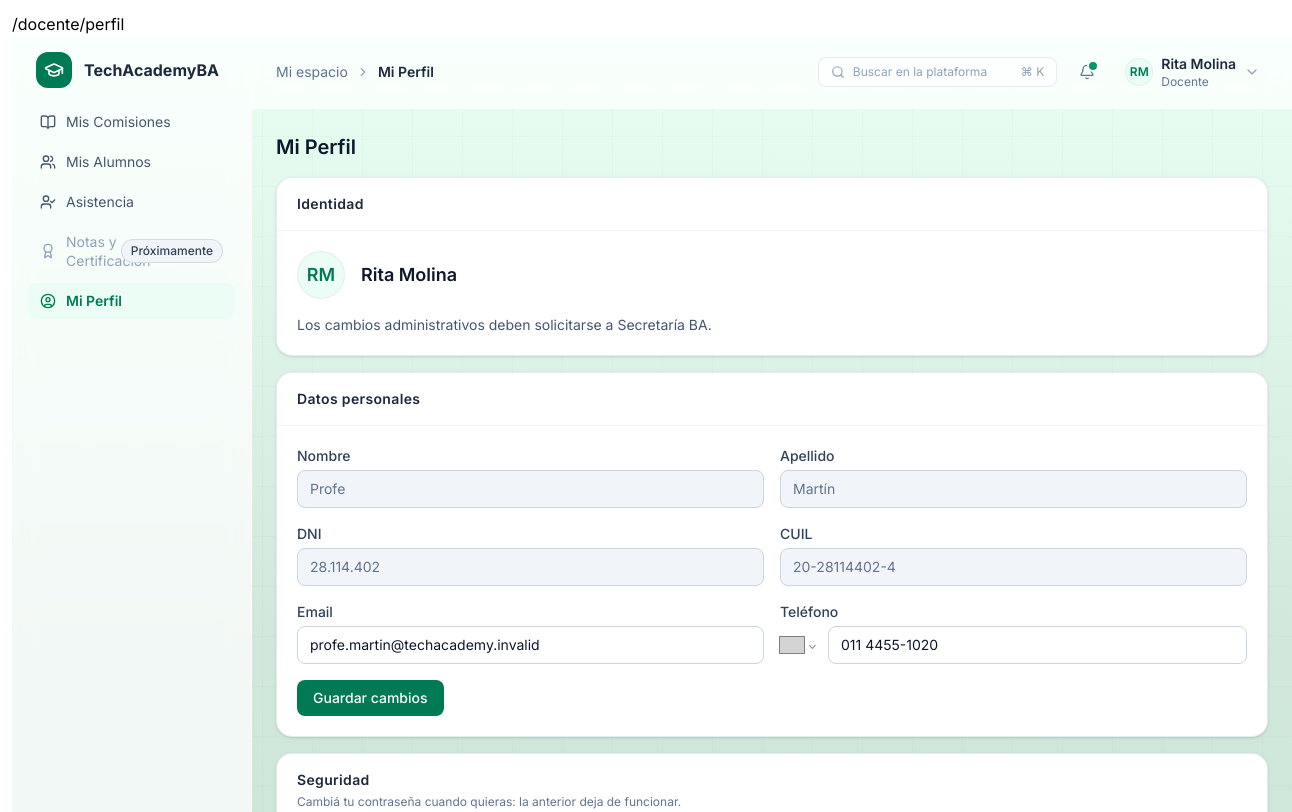
Test: datos personales › informa el email duplicado y conserva lo ingresado
Check: the heading "Mi Perfil" is shown, box x1=276 y1=135 x2=356 y2=159
Replace the text in the field labelled "Email" with "ocupado@techacademy.invalid" at x=530, y=645, box x1=297 y1=626 x2=764 y2=664
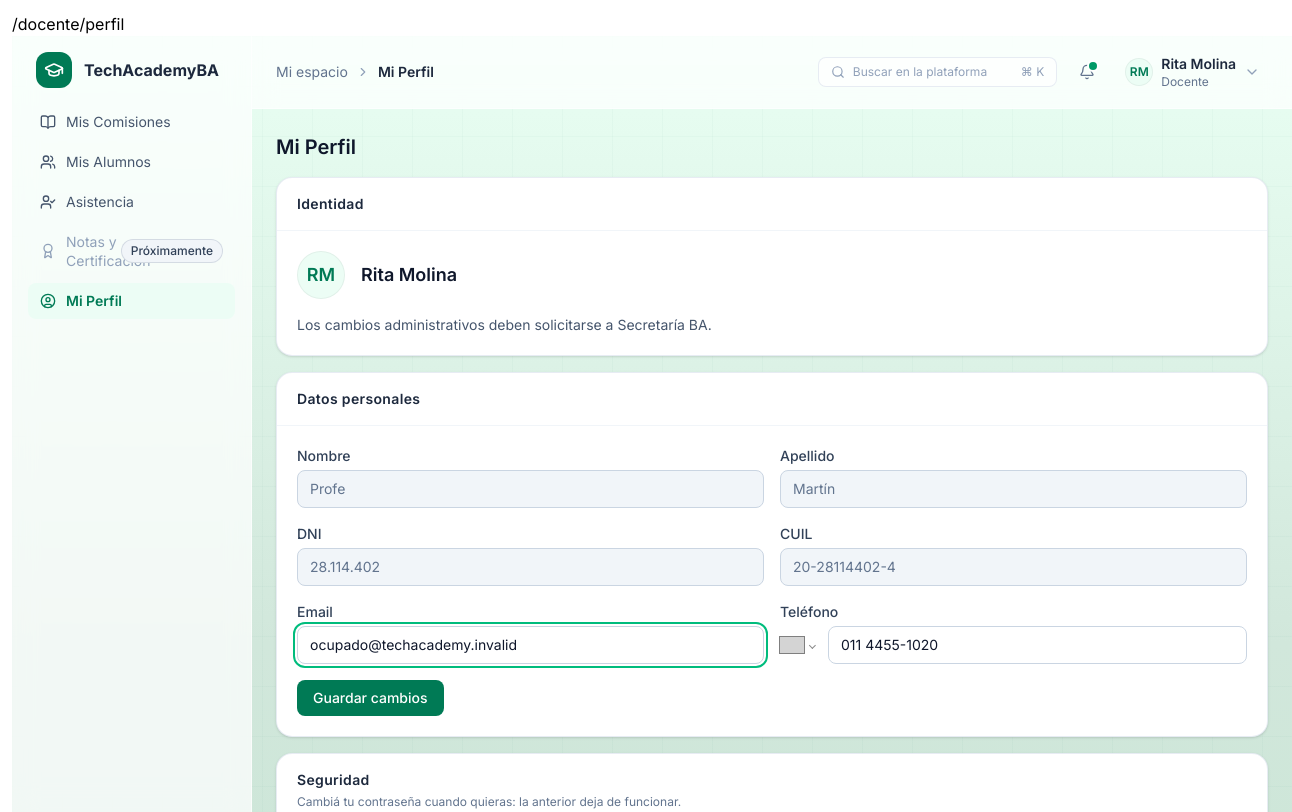
Click the button "Guardar cambios" at x=370, y=698, box x1=297 y1=680 x2=444 y2=716
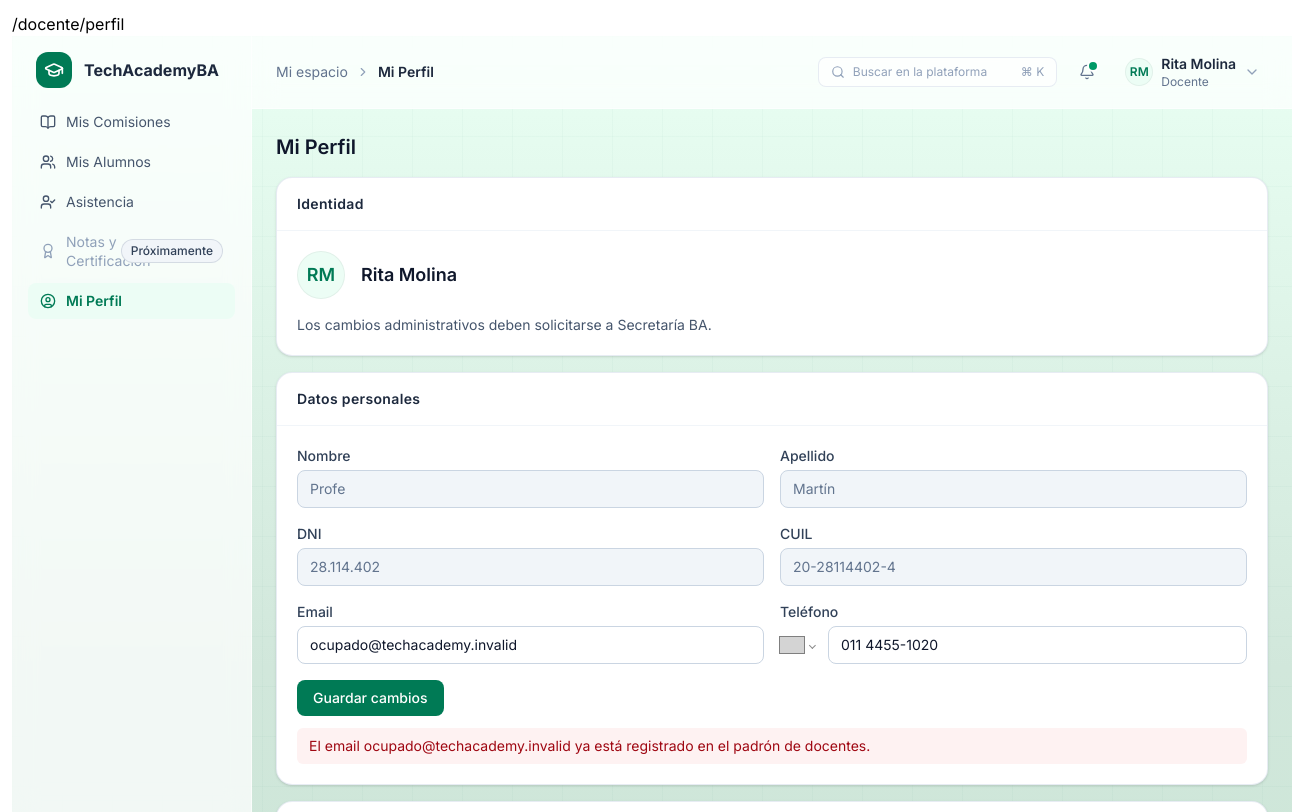
Check: the message shows "ya está registrado", box x1=309 y1=737 x2=870 y2=754
